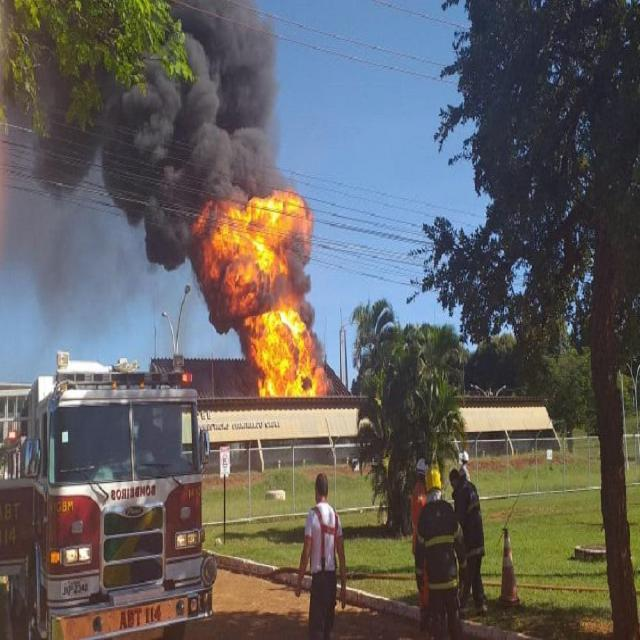Fire: (194, 172, 330, 402)
Smoke: (112, 11, 272, 193)
